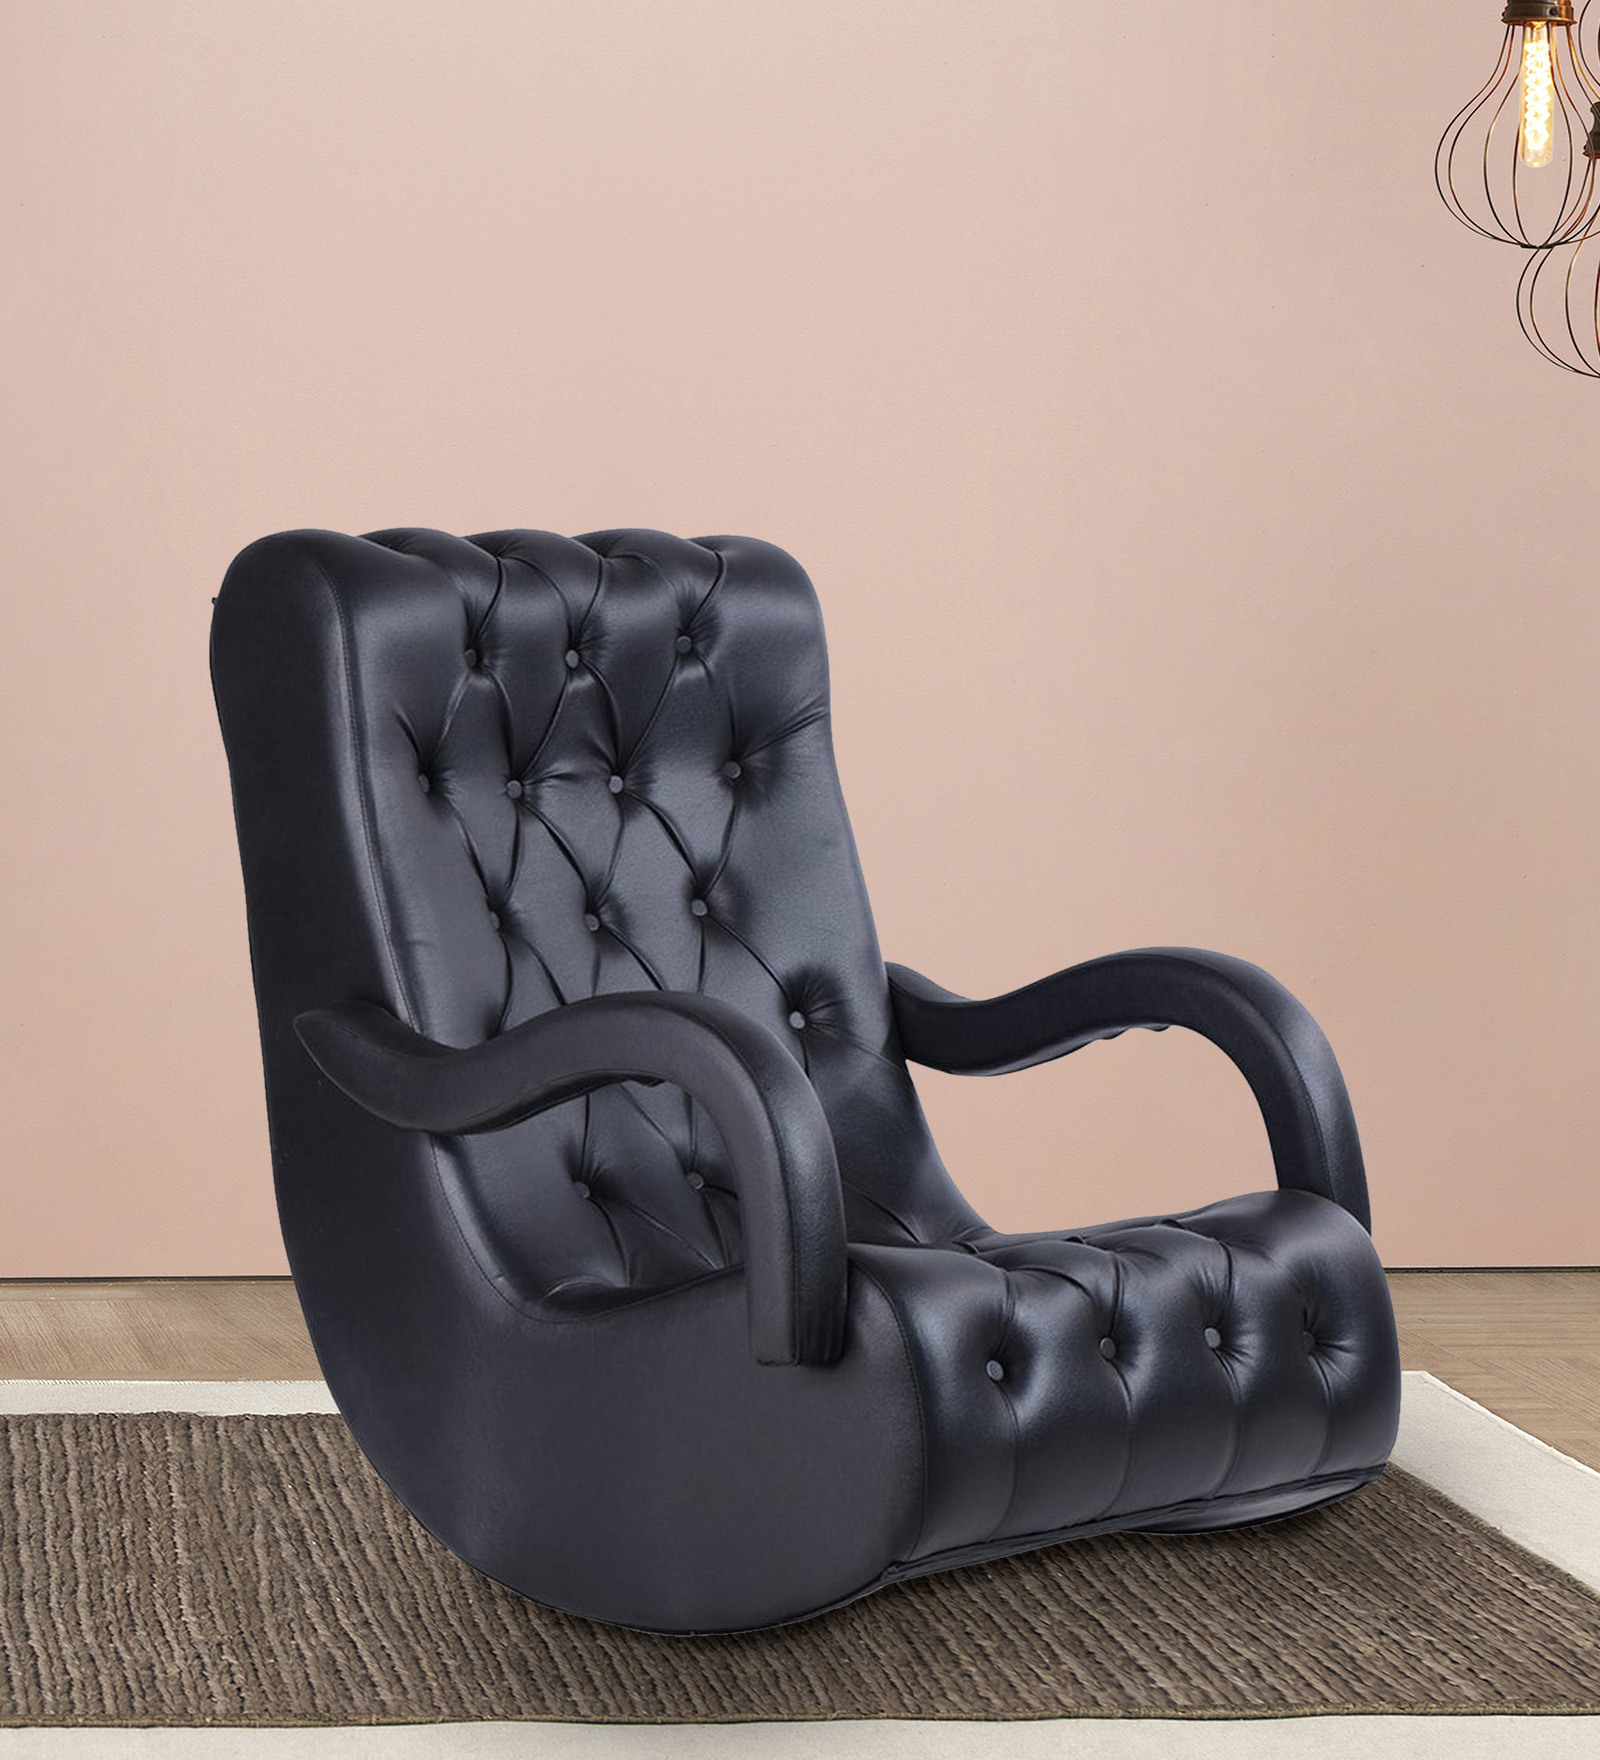Low Seat Rocking Chair with Arm Rest in Black Leatherette by Durian: (201, 504, 1411, 1643)
